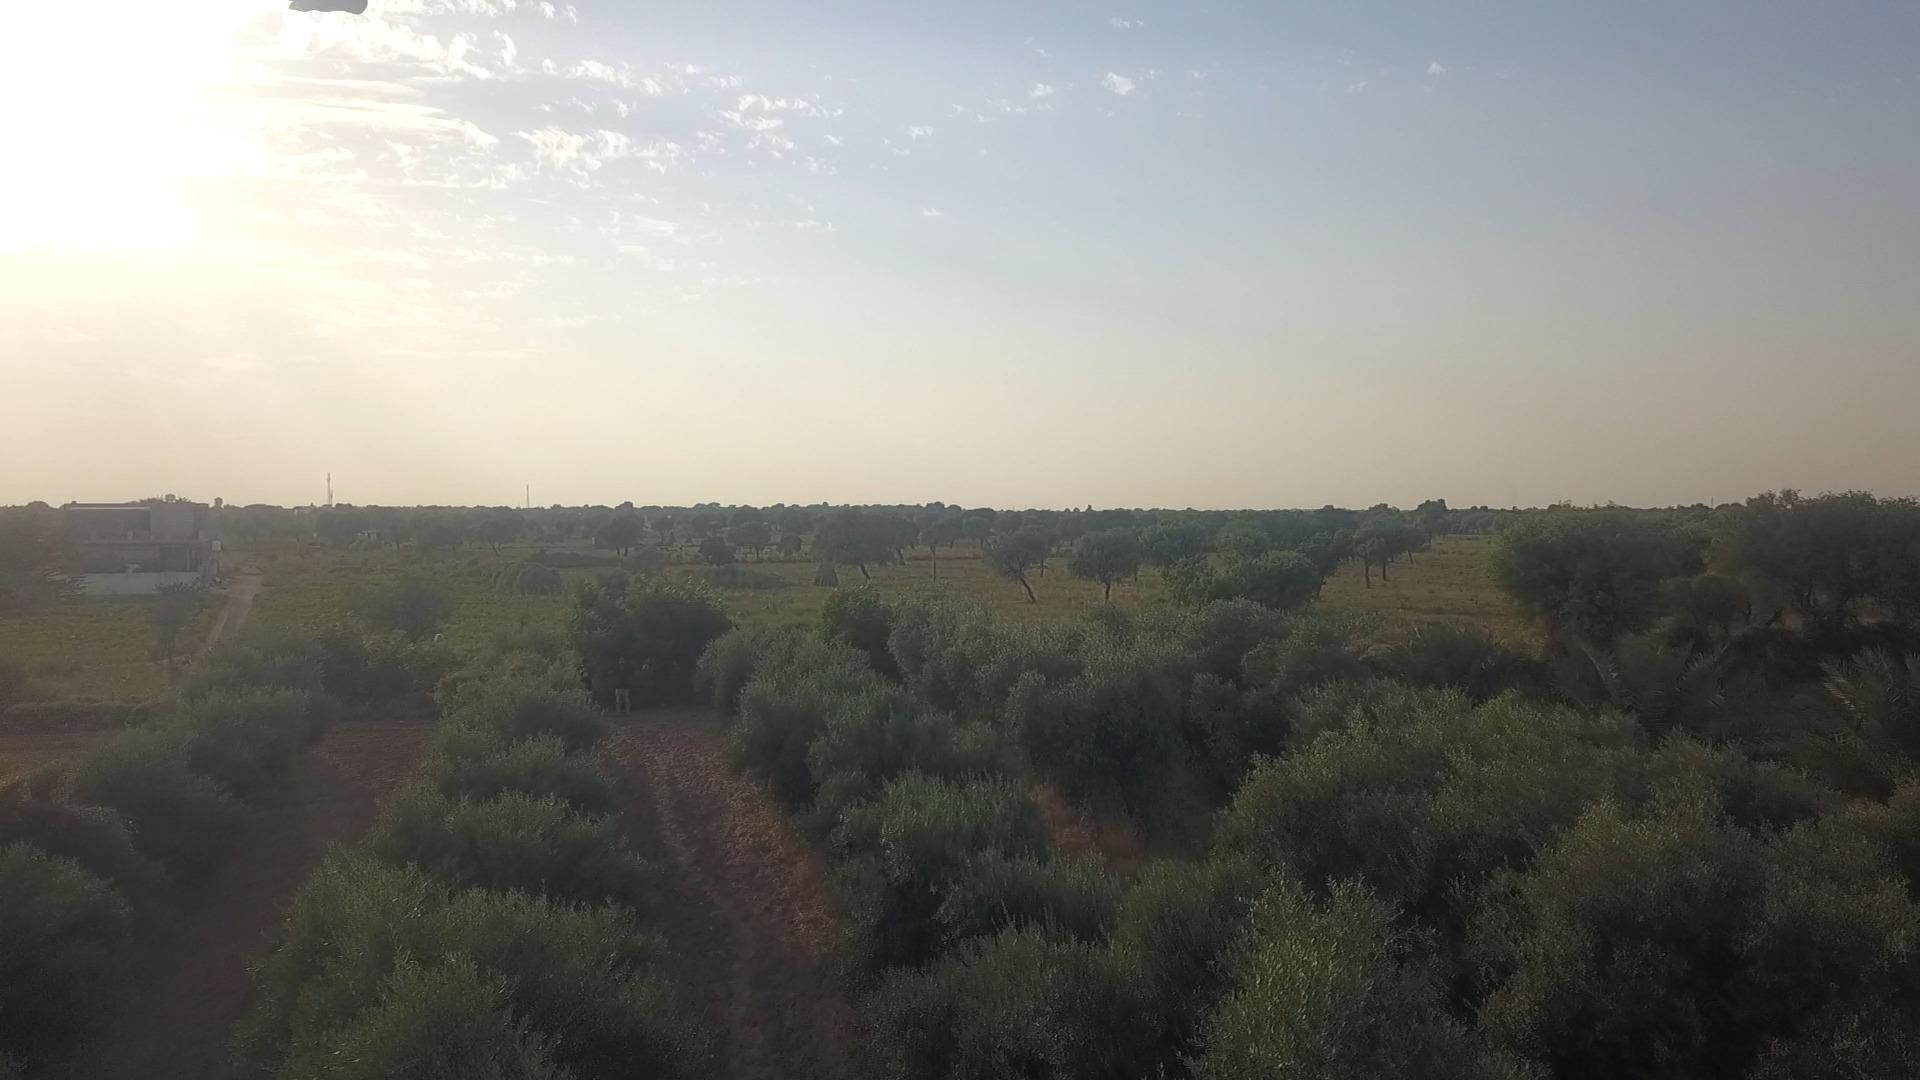canopy: (886, 603, 1919, 1079), (702, 632, 1516, 1079), (233, 667, 716, 1079), (0, 692, 313, 961)
road: (65, 717, 435, 1079), (603, 708, 876, 1079), (961, 727, 1150, 874)
